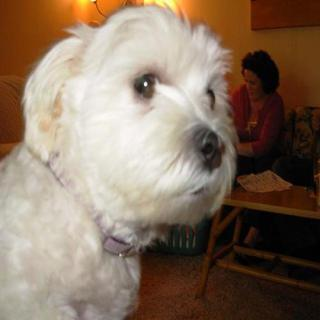dog: (23, 6, 244, 247)
nose: (192, 120, 228, 171)
